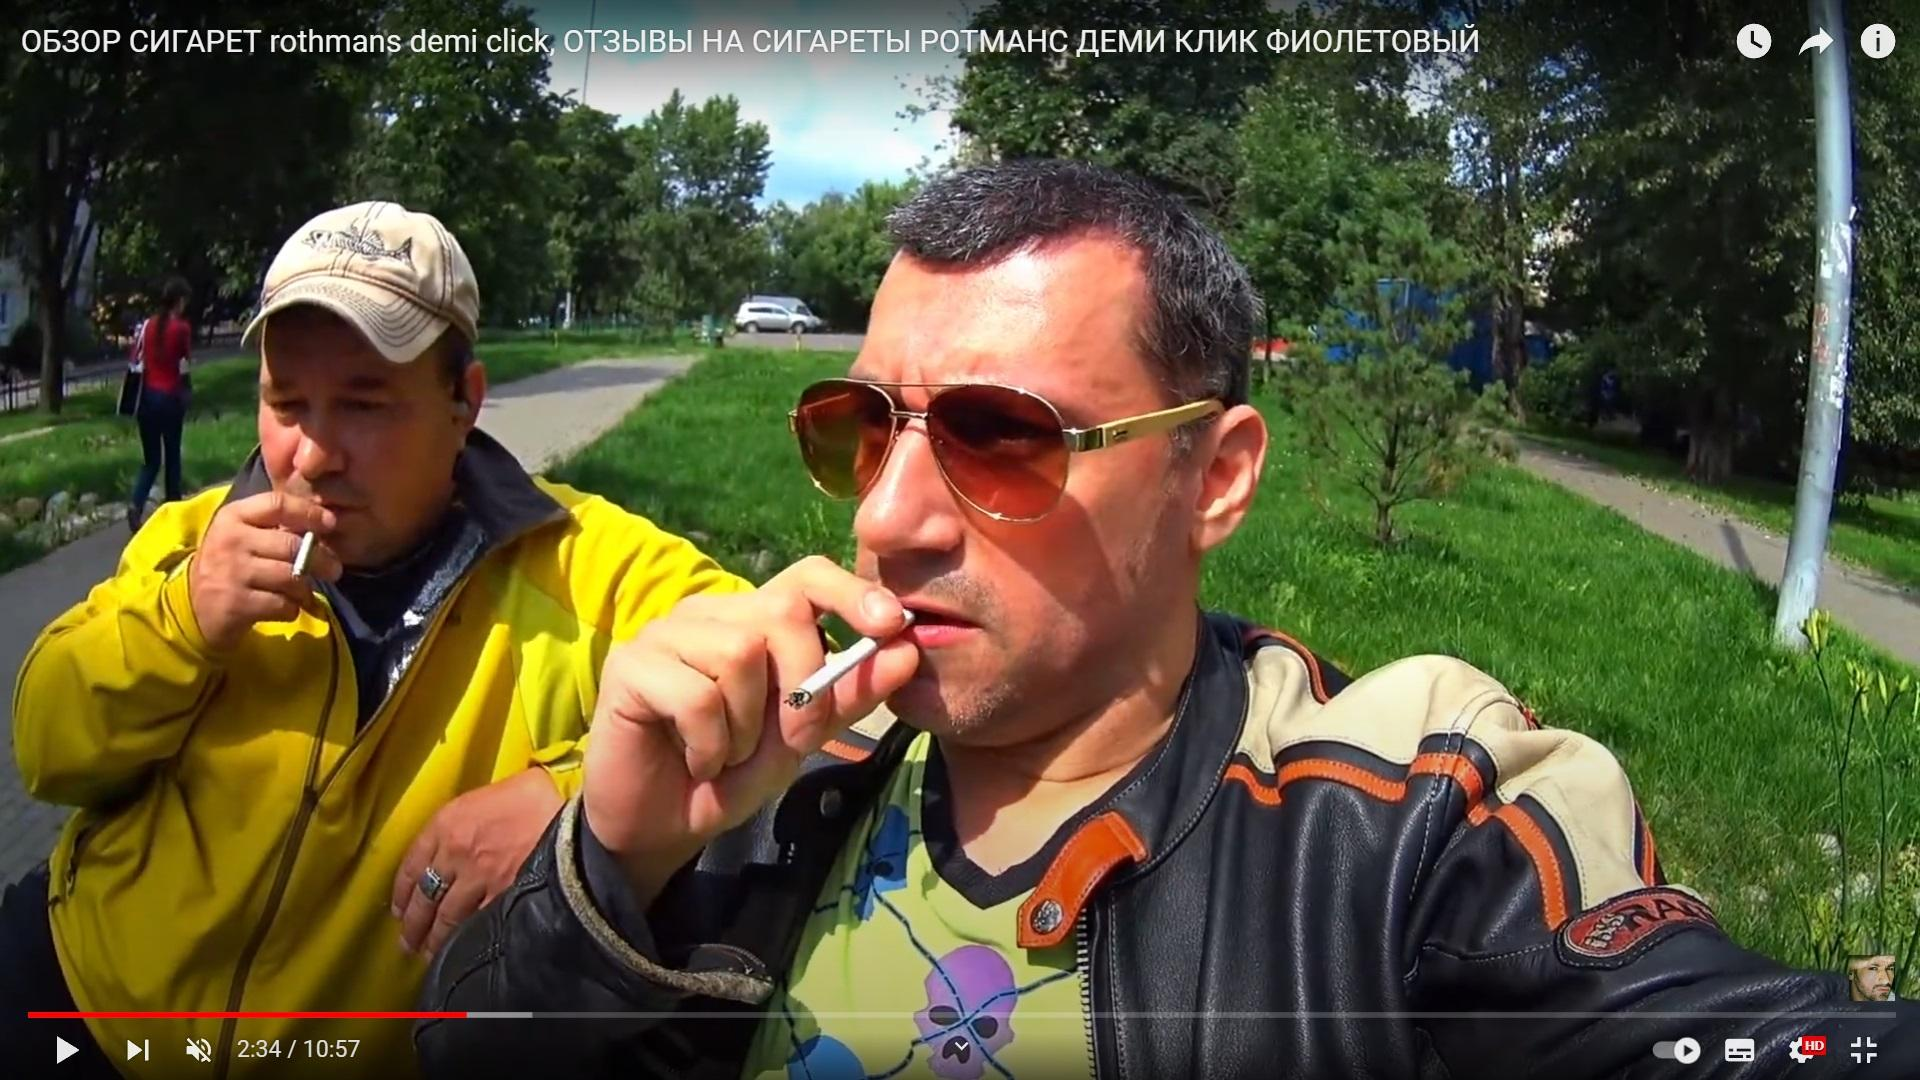cigarette: (785, 609, 916, 709), (293, 530, 318, 580)
